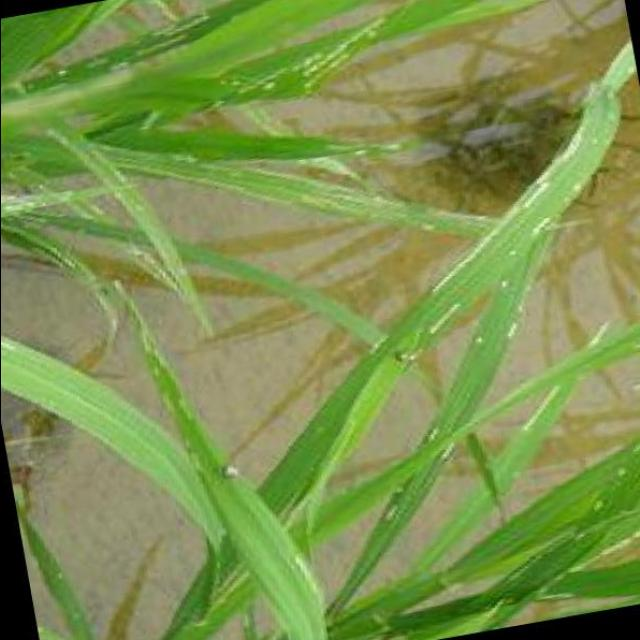ricebug: (221, 466, 238, 478)
